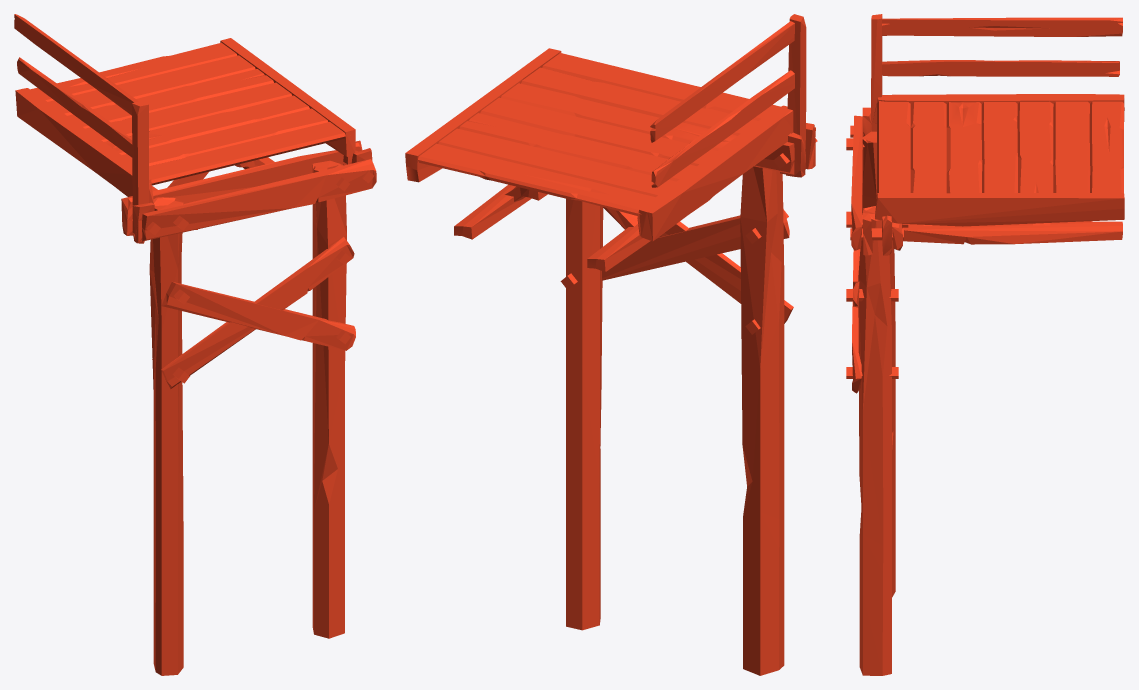
The model's file is SM_Pier_Short_Railing_B_City.fbx.
The picture shows the model from 3 angles, left to right: view 1: azimuth 30°, elevation 25°; view 2: azimuth 150°, elevation 25°; view 3: azimuth 270°, elevation 25°; orthographic projection. The views are drawn at different scales.
Parts seen in each view (by area): view 1: SM_Pier_Short_Railing_B_City; view 2: SM_Pier_Short_Railing_B_City; view 3: SM_Pier_Short_Railing_B_City.
Boxes of the visible parts, <box> form: SM_Pier_Short_Railing_B_City: <box>14,14,376,675</box>; SM_Pier_Short_Railing_B_City: <box>405,14,817,675</box>; SM_Pier_Short_Railing_B_City: <box>846,14,1124,675</box>.
Size of the model in its own units: 3.31 by 7.57 by 3.39.
